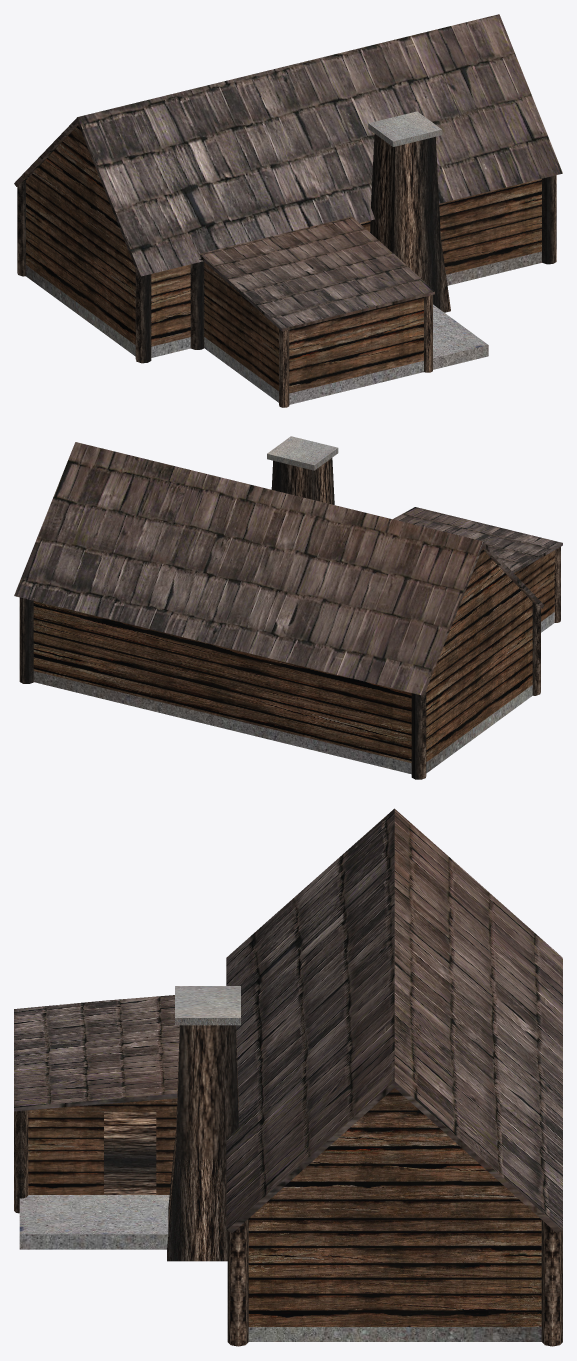
Rendered from wood-cabin.fbx.
3 views of the same model, one above another, from view 1: azimuth 30°, elevation 25°; view 2: azimuth 150°, elevation 25°; view 3: azimuth 270°, elevation 25° (orthographic). The views are drawn at different scales.
Parts seen in each view (by area): view 1: Plane.002; view 2: Plane.002; view 3: Plane.002.
Part boxes in pixels (x1,y1,x2,y2): Plane.002: [14, 14, 562, 407]; Plane.002: [14, 436, 562, 779]; Plane.002: [14, 808, 562, 1346].
Bounding box in the file's own units: 2063 × 941 × 1755.
Materials: 2 (2 with a texture image).
